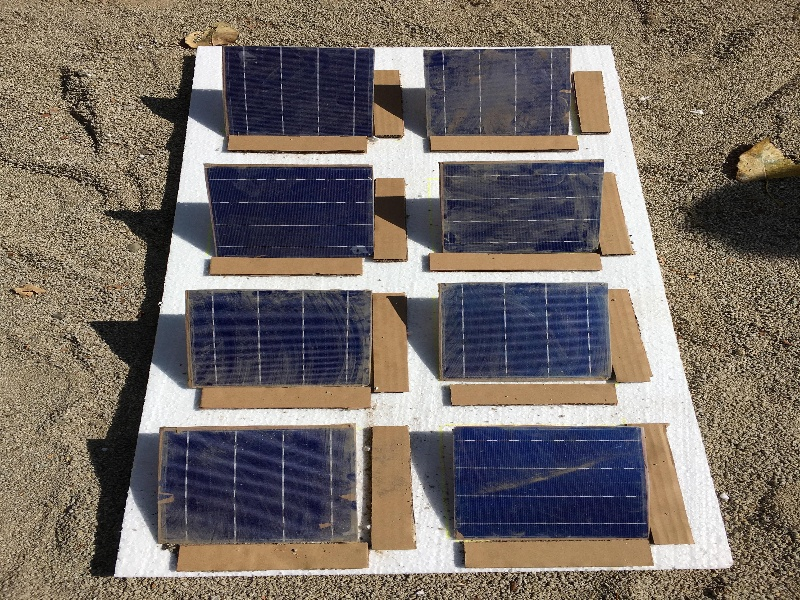clean: (440, 427, 658, 541), (193, 168, 381, 259), (212, 50, 380, 137)
dirty: (439, 164, 607, 253), (417, 53, 584, 135)
semi: (144, 430, 362, 543), (184, 291, 385, 389), (437, 286, 614, 385)
